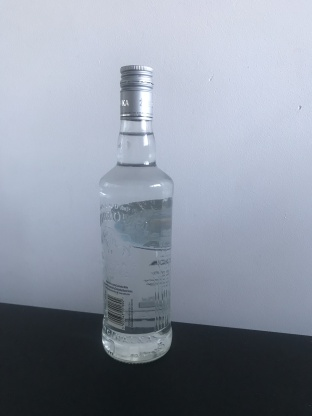nakretka: (118, 64, 155, 121)
